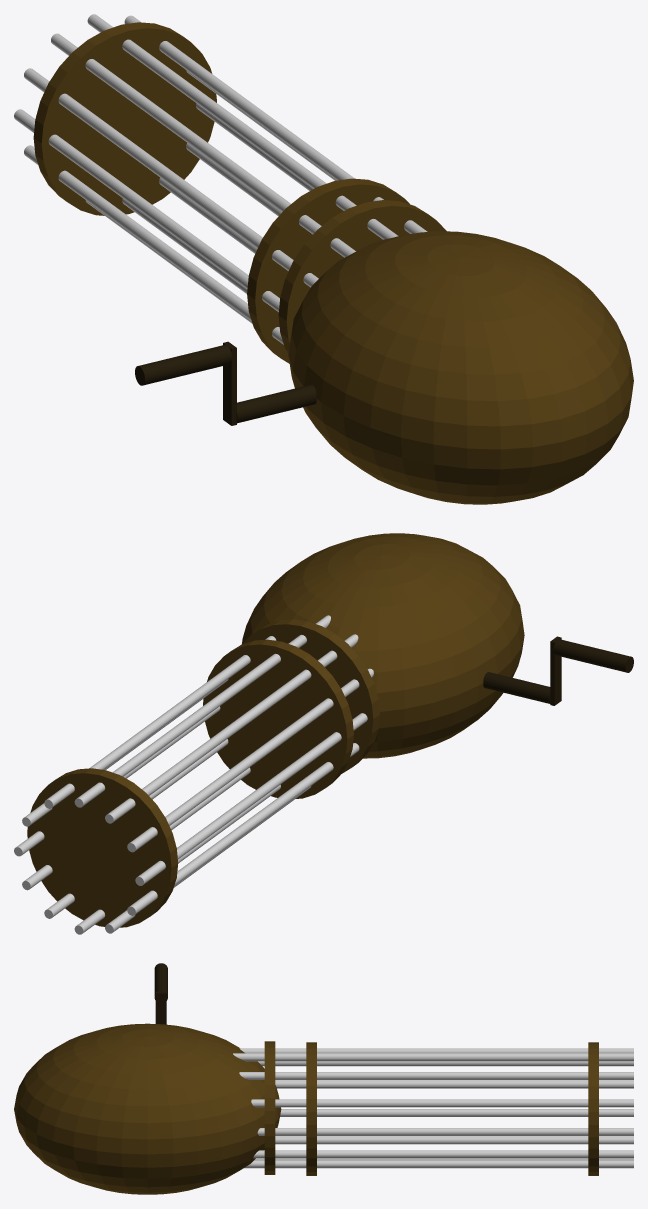
Rendered from Gatling Gun.obj.
3 renders of one model, top to bottom at view 1: azimuth 30°, elevation 25°; view 2: azimuth 150°, elevation 25°; view 3: azimuth 270°, elevation 25°, orthographic. The views are drawn at different scales.
Parts seen in each view (by area): view 1: Sphere, Barrels_Cylinder.006, Outer_Ring_Cylinder.001, Inner_Ring_2_Cylinder.015, Inner_Ring_Cylinder, Handle_Cylinder.003, Axle_Cylinder.002, Axle_to_Handle_Cube; view 2: Sphere, Barrels_Cylinder.006, Outer_Ring_Cylinder.001, Inner_Ring_2_Cylinder.015, Inner_Ring_Cylinder, Handle_Cylinder.003, Axle_Cylinder.002, Axle_to_Handle_Cube; view 3: Sphere, Barrels_Cylinder.006, Inner_Ring_Cylinder, Inner_Ring_2_Cylinder.015, Outer_Ring_Cylinder.001, Handle_Cylinder.003, Axle_to_Handle_Cube.
Part boxes in pixels (x1,y1,x2,y2): Sphere: (288, 231, 633, 504); Barrels_Cylinder.006: (14, 14, 427, 344); Outer_Ring_Cylinder.001: (33, 22, 216, 215); Inner_Ring_2_Cylinder.015: (247, 178, 409, 363); Inner_Ring_Cylinder: (278, 200, 446, 353); Handle_Cylinder.003: (135, 344, 232, 385); Axle_Cylinder.002: (236, 384, 316, 423); Axle_to_Handle_Cube: (223, 341, 236, 425); Sphere: (242, 533, 524, 758); Barrels_Cylinder.006: (14, 615, 373, 934); Outer_Ring_Cylinder.001: (27, 768, 178, 927); Inner_Ring_2_Cylinder.015: (203, 639, 353, 798); Inner_Ring_Cylinder: (242, 619, 379, 773); Handle_Cylinder.003: (553, 639, 633, 672); Axle_Cylinder.002: (483, 672, 550, 703); Axle_to_Handle_Cube: (550, 636, 561, 705); Sphere: (14, 1023, 281, 1194); Barrels_Cylinder.006: (233, 1048, 633, 1168); Inner_Ring_Cylinder: (264, 1041, 275, 1174); Inner_Ring_2_Cylinder.015: (306, 1042, 316, 1175); Outer_Ring_Cylinder.001: (588, 1042, 598, 1175); Handle_Cylinder.003: (154, 963, 167, 1000); Axle_to_Handle_Cube: (155, 991, 166, 1024).
Size of the model in its own units: 2.57 by 1.2 by 4.64.
